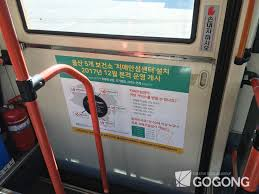in: (6, 2, 217, 187)
